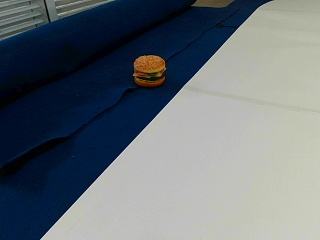burger: (132, 53, 166, 85)
